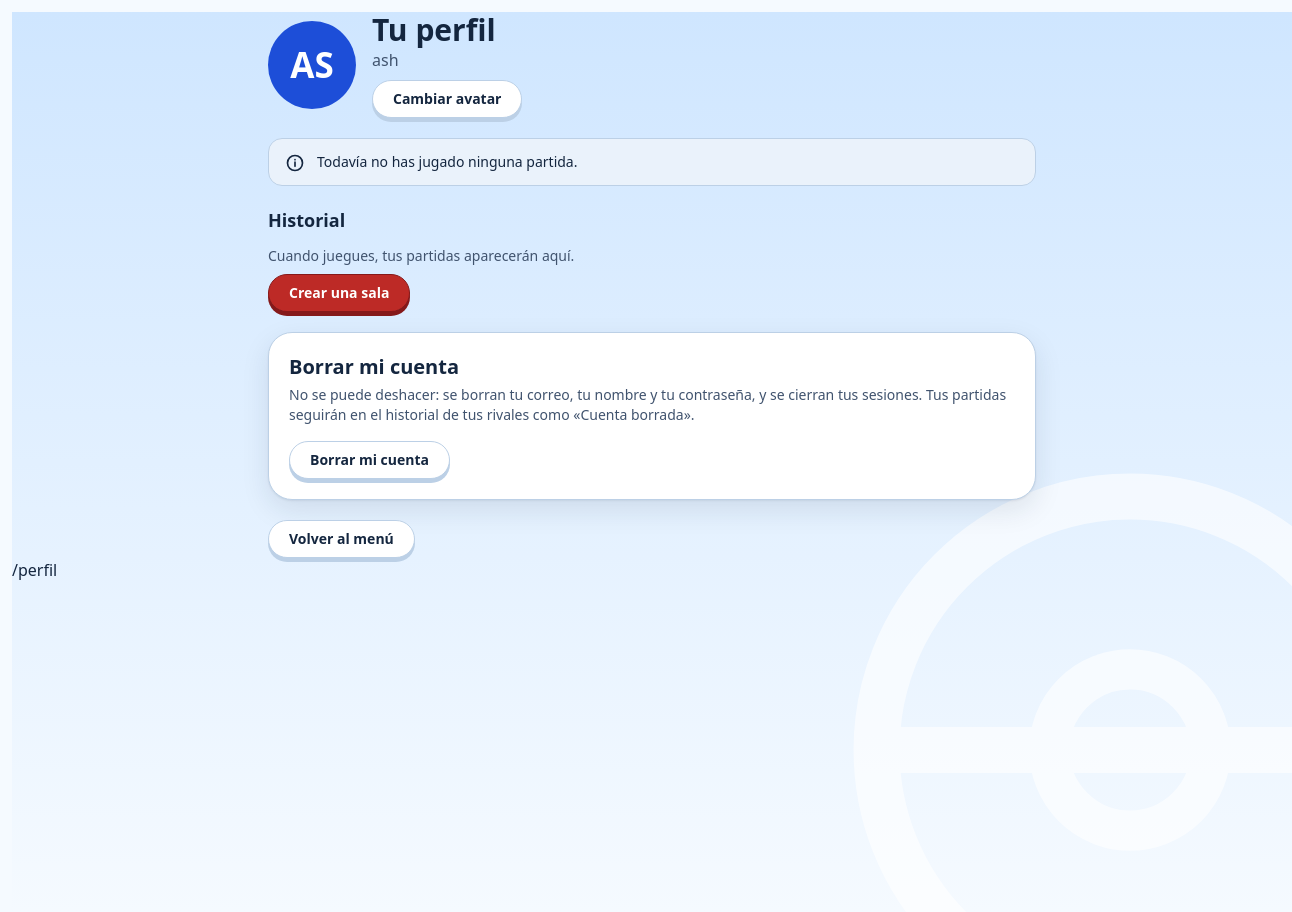
Test: Borrar mi cuenta: foco y estilo (#8) › «Cancelar» limpia lo escrito y devuelve el foco a «Borrar mi cuenta»
Click the button "Borrar mi cuenta".
click(370, 460)  # box x1=289 y1=441 x2=450 y2=479
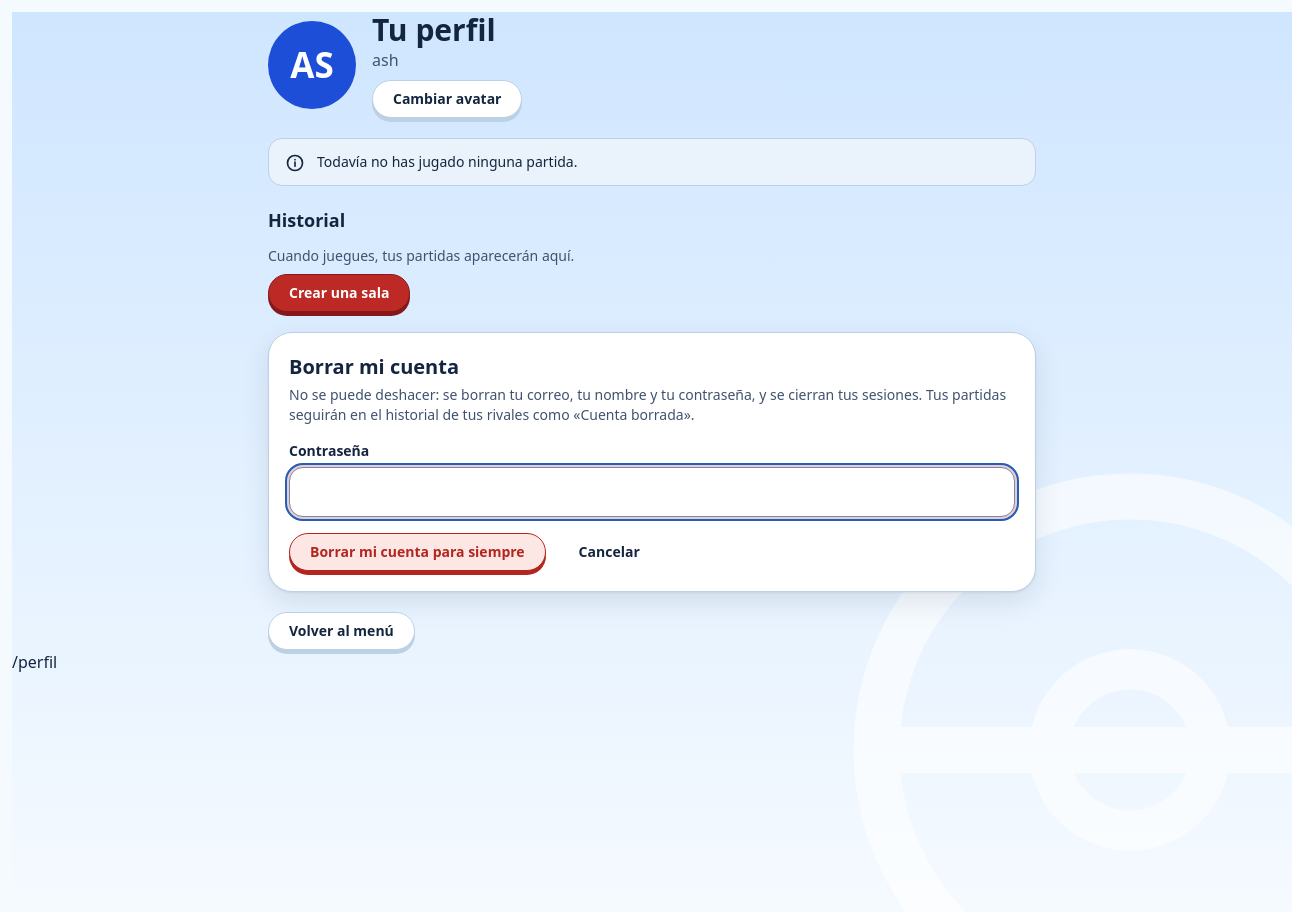
Type "secreta" into the password field labelled "Contraseña".
click(652, 492); type("secreta")  # box x1=289 y1=467 x2=1015 y2=517
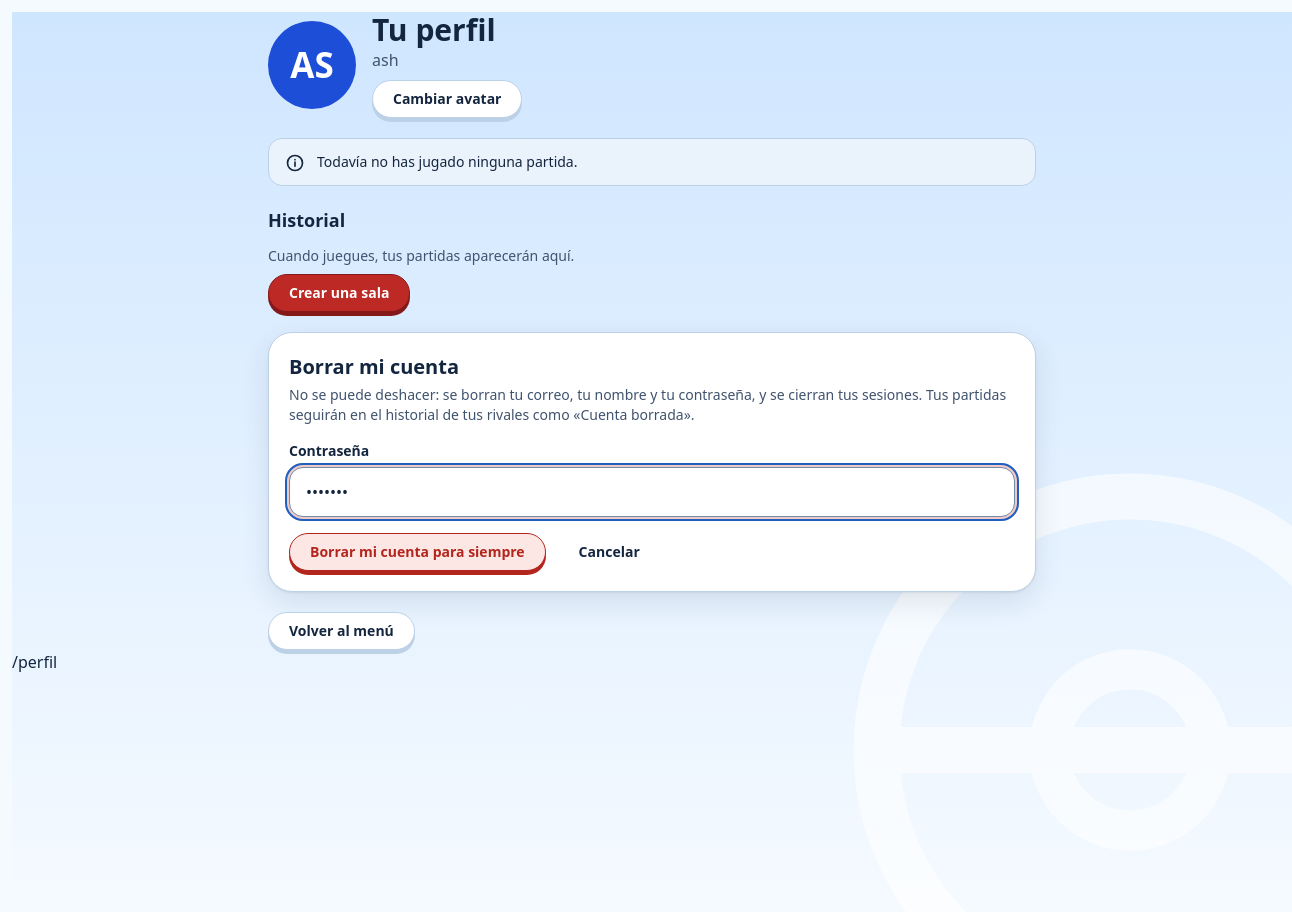
Click the button "Cancelar".
click(609, 552)  # box x1=558 y1=533 x2=661 y2=571
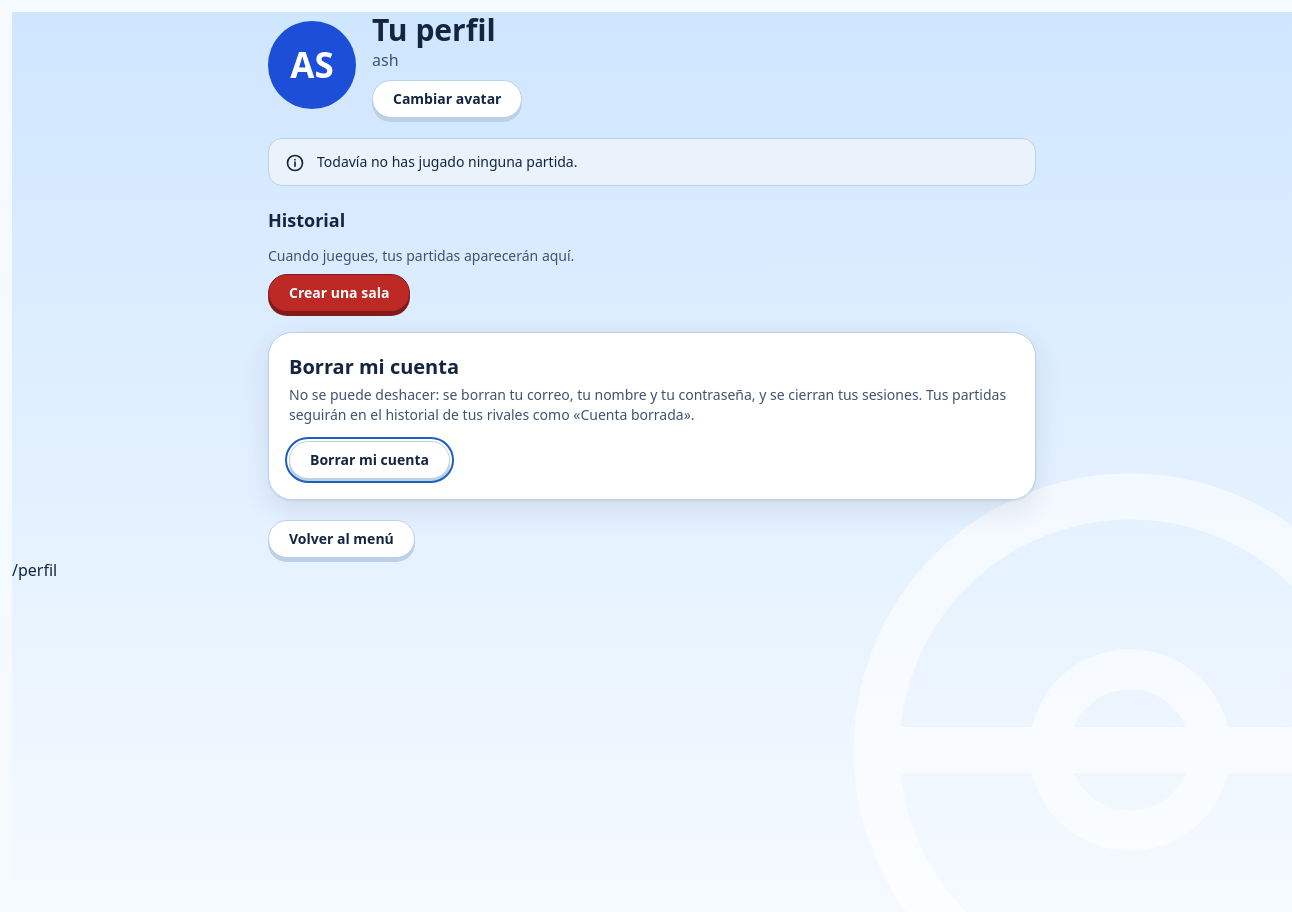
Click the button "Borrar mi cuenta".
click(370, 460)  # box x1=289 y1=441 x2=450 y2=479
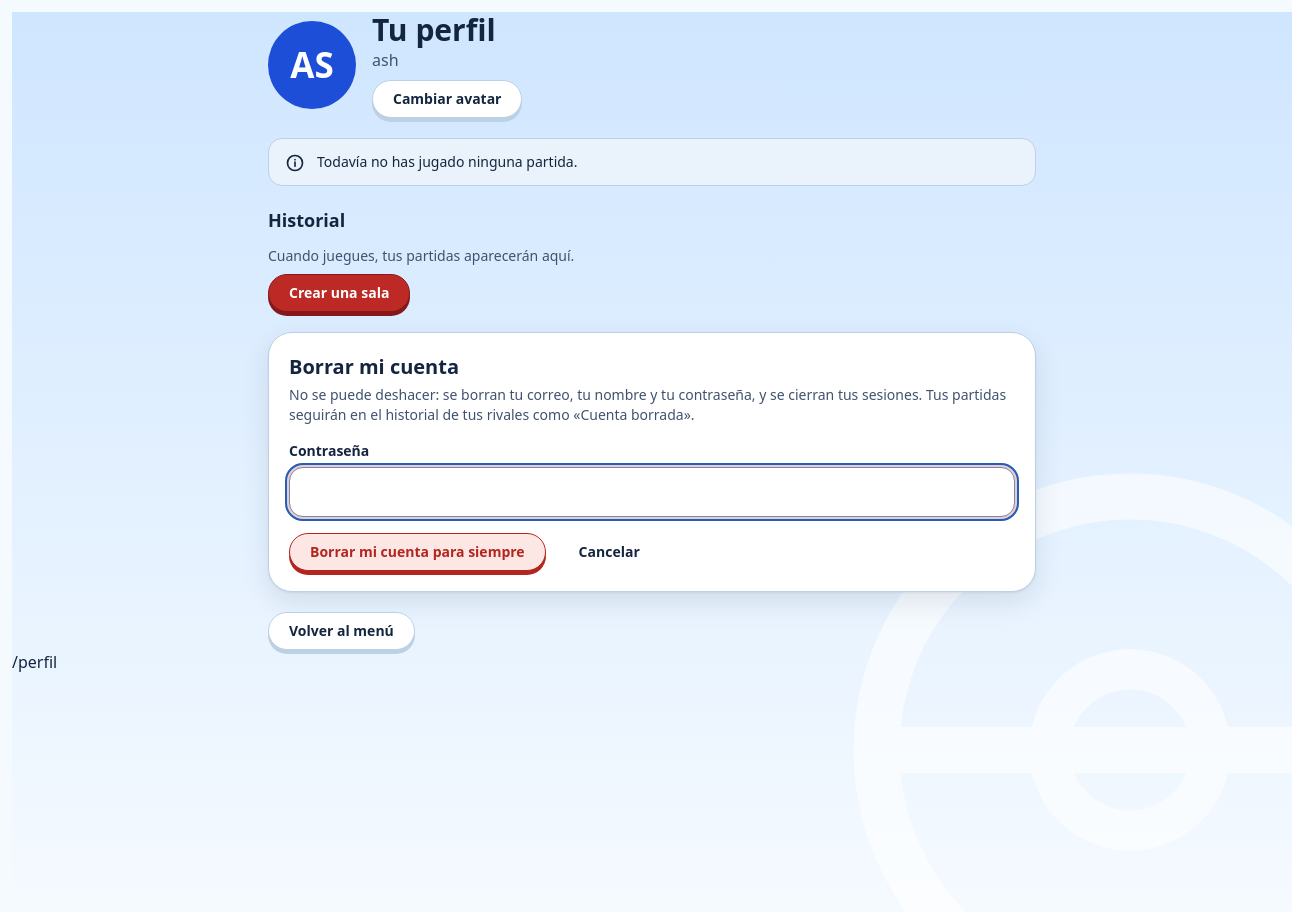
Check: the password field labelled "Contraseña" is empty, box x1=289 y1=467 x2=1015 y2=517
